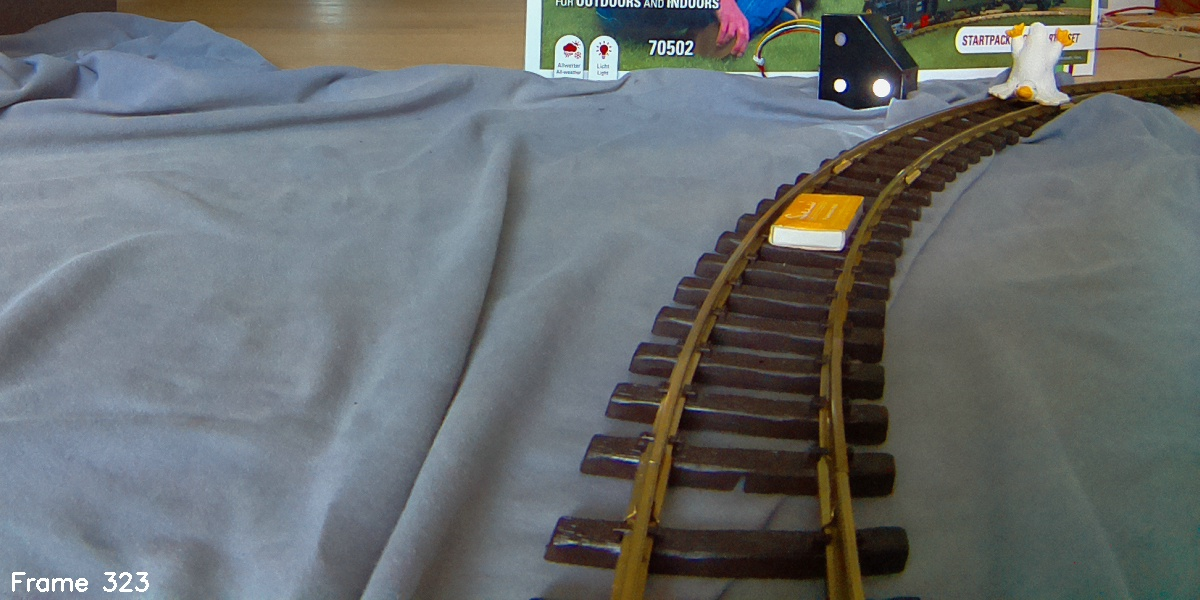Ente: (984, 23, 1080, 109)
Halt: (821, 11, 914, 109)
